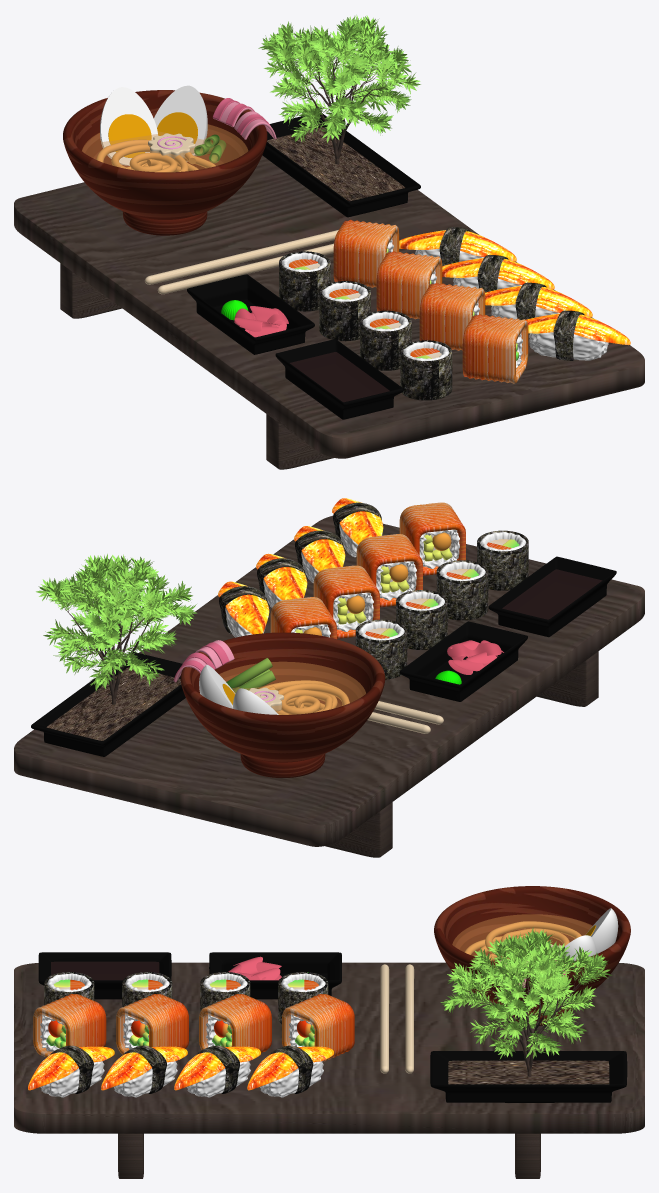
Rendered from sushi_set_japanese_harmony-transformed.glb.
The picture shows the model from 3 angles, top to bottom: view 1: azimuth 30°, elevation 25°; view 2: azimuth 150°, elevation 25°; view 3: azimuth 270°, elevation 25°; orthographic projection. The views are drawn at different scales.
Parts seen in each view (by area): view 1: object 39, leaves_22, object 1, object 78, object 87, object 86, object 13, object 31, object 40, object 77, object 69, object 67 (+26 smaller); view 2: object 39, object 1, leaves_22, object 78, object 87, object 13, object 86, object 40, object 77, object 79, object 31, object 67 (+27 smaller); view 3: object 39, leaves_22, object 1, object 86, object 87, object 13, object 78, object 69, object 31, object 51, object 67, object 40 (+29 smaller).
Boxes of the visible parts, x1,y1,x2,y2 form: object 39: [14, 155, 644, 458]; leaves_22: [258, 15, 420, 142]; object 1: [63, 90, 267, 219]; object 78: [187, 274, 314, 354]; object 87: [267, 127, 405, 201]; object 86: [262, 113, 420, 217]; object 13: [82, 124, 247, 171]; object 31: [462, 314, 528, 383]; object 40: [60, 263, 333, 469]; object 77: [275, 339, 403, 419]; object 69: [333, 219, 399, 287]; object 67: [376, 251, 442, 319]; object 39: [14, 515, 644, 846]; object 1: [180, 632, 385, 762]; leaves_22: [36, 554, 197, 691]; object 78: [400, 621, 527, 701]; object 87: [46, 667, 181, 740]; object 13: [219, 662, 365, 714]; object 86: [31, 652, 185, 756]; object 40: [325, 651, 598, 857]; object 77: [488, 556, 616, 637]; object 79: [502, 569, 602, 619]; object 31: [399, 502, 465, 575]; object 67: [313, 565, 379, 638]; object 39: [14, 962, 644, 1133]; leaves_22: [440, 927, 612, 1059]; object 1: [434, 886, 630, 1011]; object 86: [430, 1051, 627, 1102]; object 87: [448, 1060, 609, 1084]; object 13: [452, 914, 592, 961]; object 78: [209, 952, 341, 999]; object 69: [282, 994, 354, 1061]; object 31: [33, 994, 106, 1057]; object 51: [116, 994, 188, 1054]; object 67: [199, 994, 271, 1052]; object 40: [118, 1133, 540, 1178].
Size of the model in its own units: 7.69 by 4.92 by 12.95.
28 materials, 15 textured.
